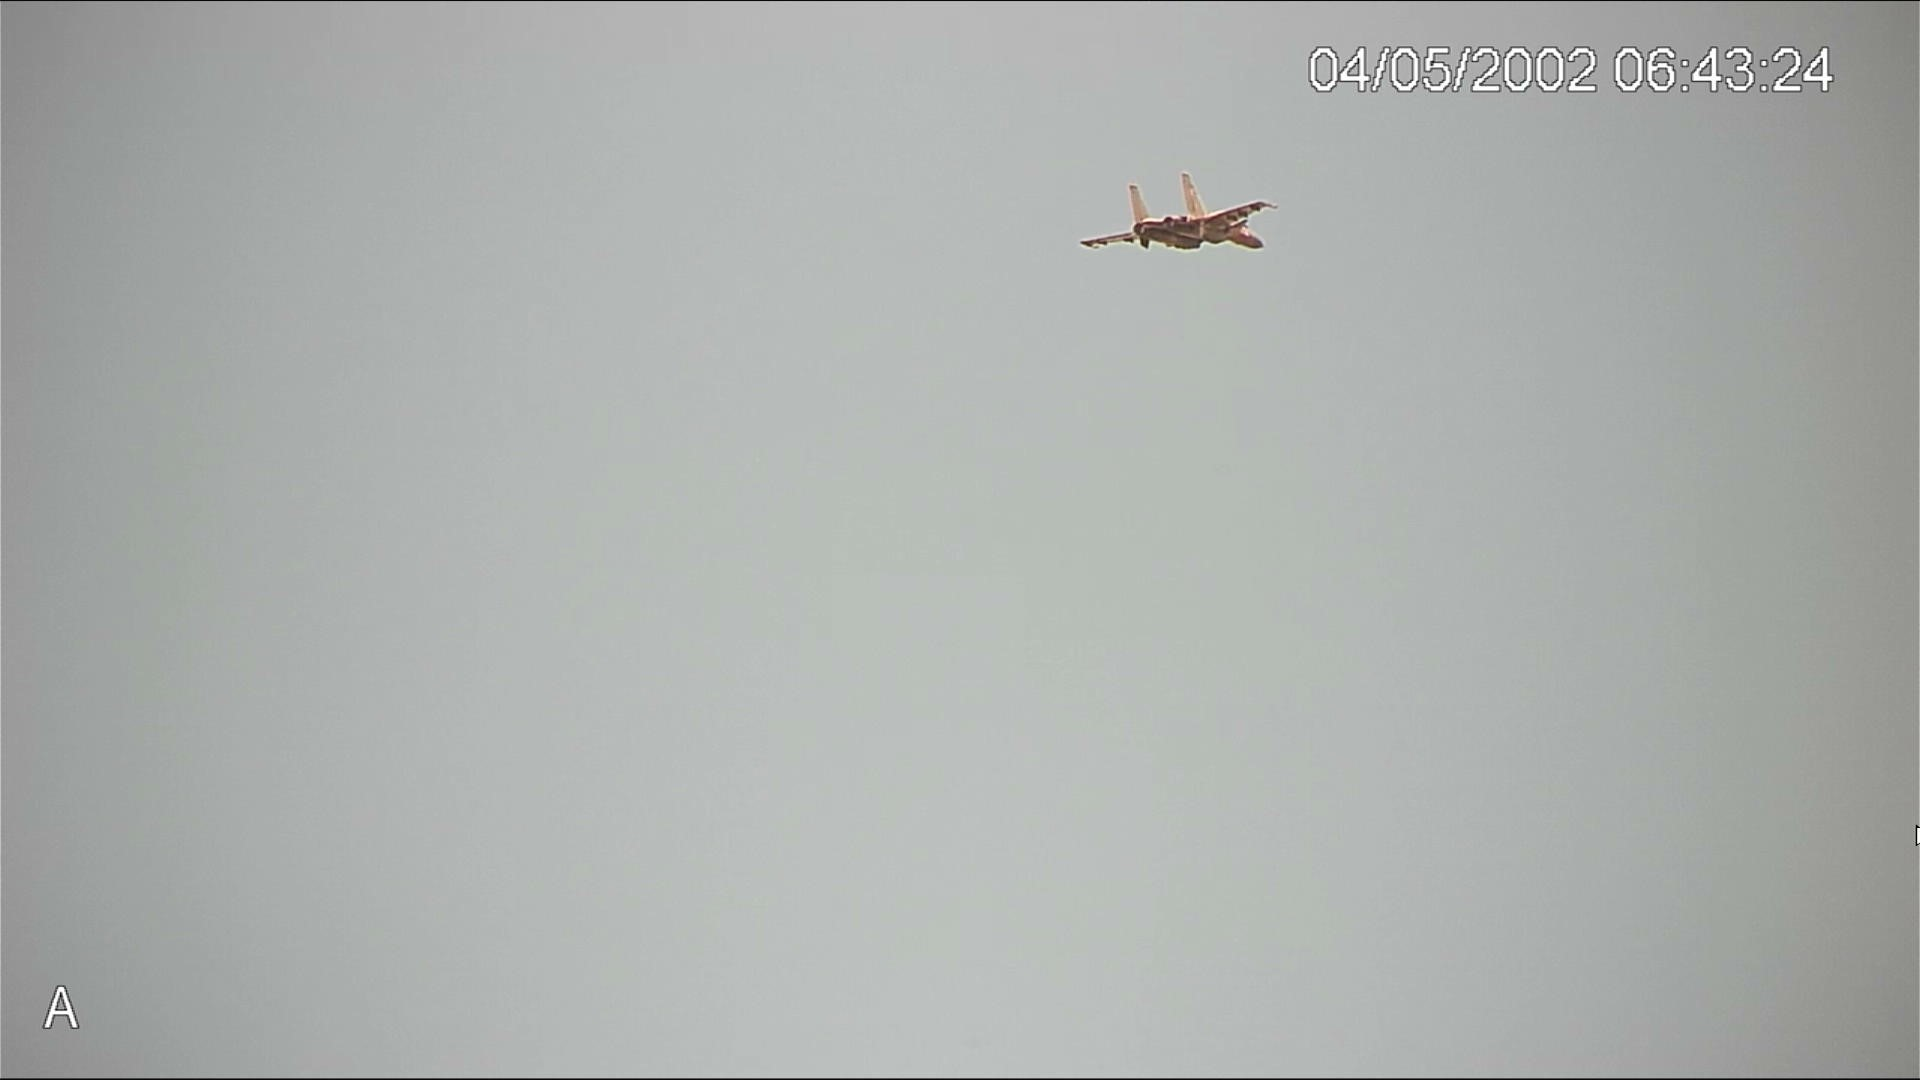SU_30: (1083, 167, 1273, 264)
